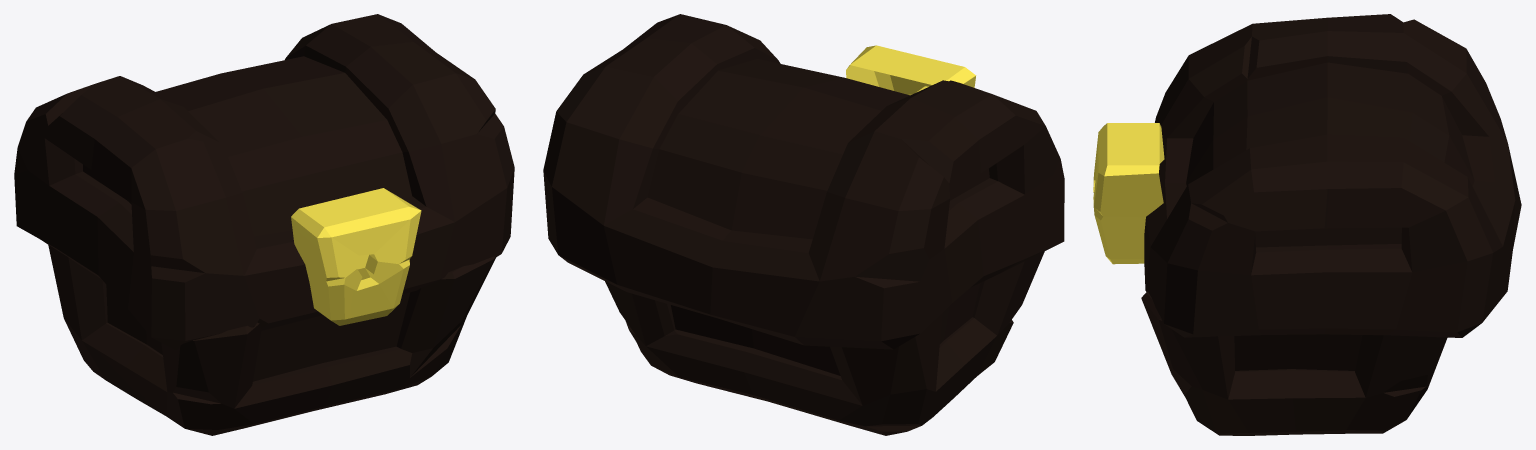
Rendered from emptyBox.fbx.
3 views of the same model, side by side, from view 1: azimuth 30°, elevation 25°; view 2: azimuth 150°, elevation 25°; view 3: azimuth 270°, elevation 25° (orthographic). The views are drawn at different scales.
Parts seen in each view (by area): view 1: Cube.515, Cube.101, Cube.516; view 2: Cube.515, Cube.101, Cube.516; view 3: Cube.515, Cube.101, Cube.516.
Boxes of the visible parts, bbox=[...] form: Cube.515: bbox=[14, 14, 514, 349]; Cube.101: bbox=[48, 245, 496, 435]; Cube.516: bbox=[291, 188, 421, 325]; Cube.515: bbox=[543, 14, 1064, 349]; Cube.101: bbox=[605, 251, 1044, 435]; Cube.516: bbox=[846, 45, 976, 95]; Cube.515: bbox=[1144, 14, 1521, 337]; Cube.101: bbox=[1141, 291, 1447, 435]; Cube.516: bbox=[1093, 123, 1164, 264].
Bounding box in the file's own units: 221 × 172 × 218.
